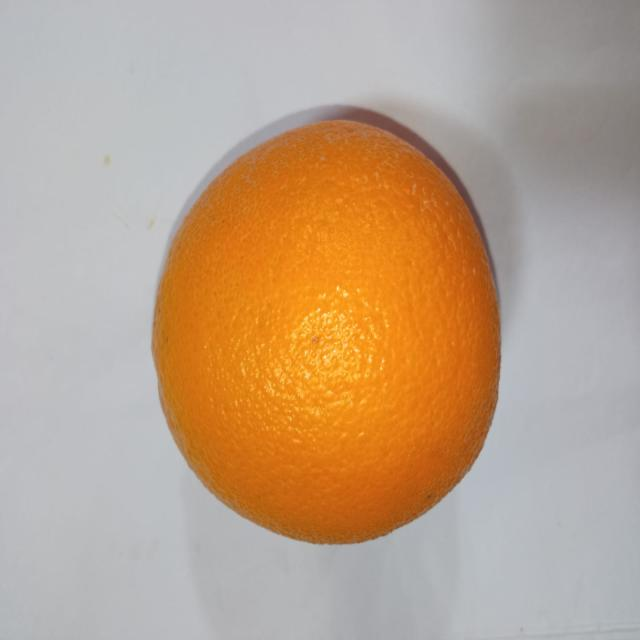fresh_orange: (152, 115, 503, 548)
